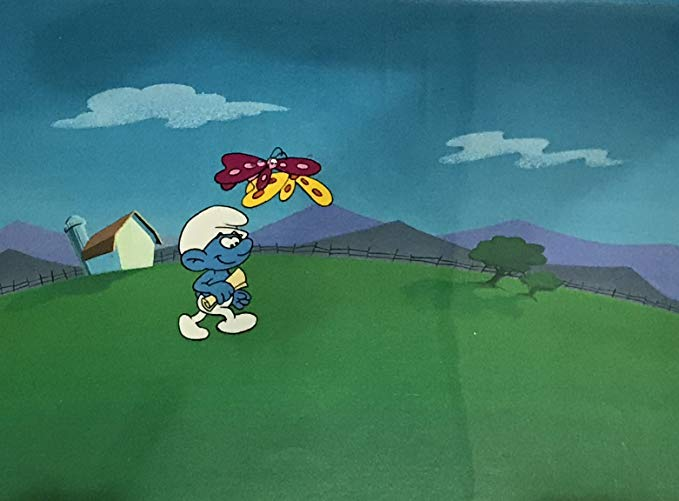smurf: (175, 203, 256, 342)
